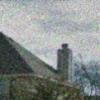chimneys: (57, 43, 72, 85)
